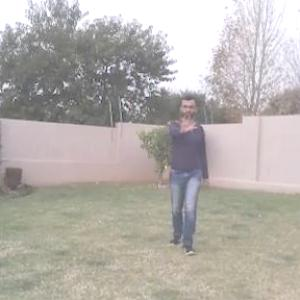follow_hand: (177, 110, 198, 136)
